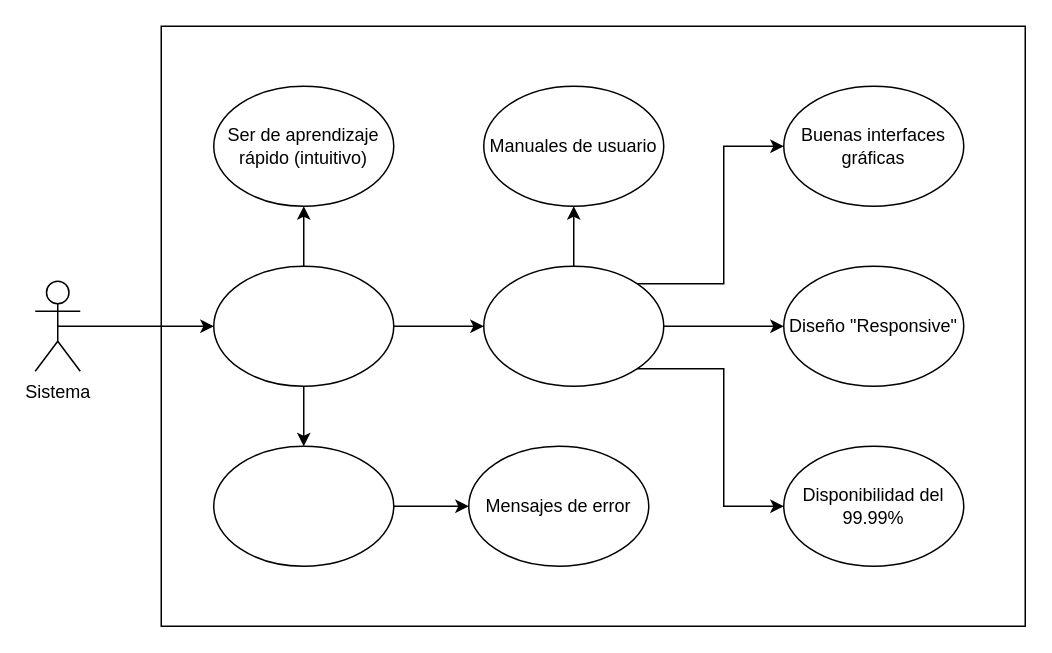
Image size: 1052x653. Some labels were removed from this diagram. Each missing label, with the centre of its shape:
"Debe" belongs at (303,325).
"Poseer" belongs at (573,325).
"Proporcionar" belongs at (303,505).
